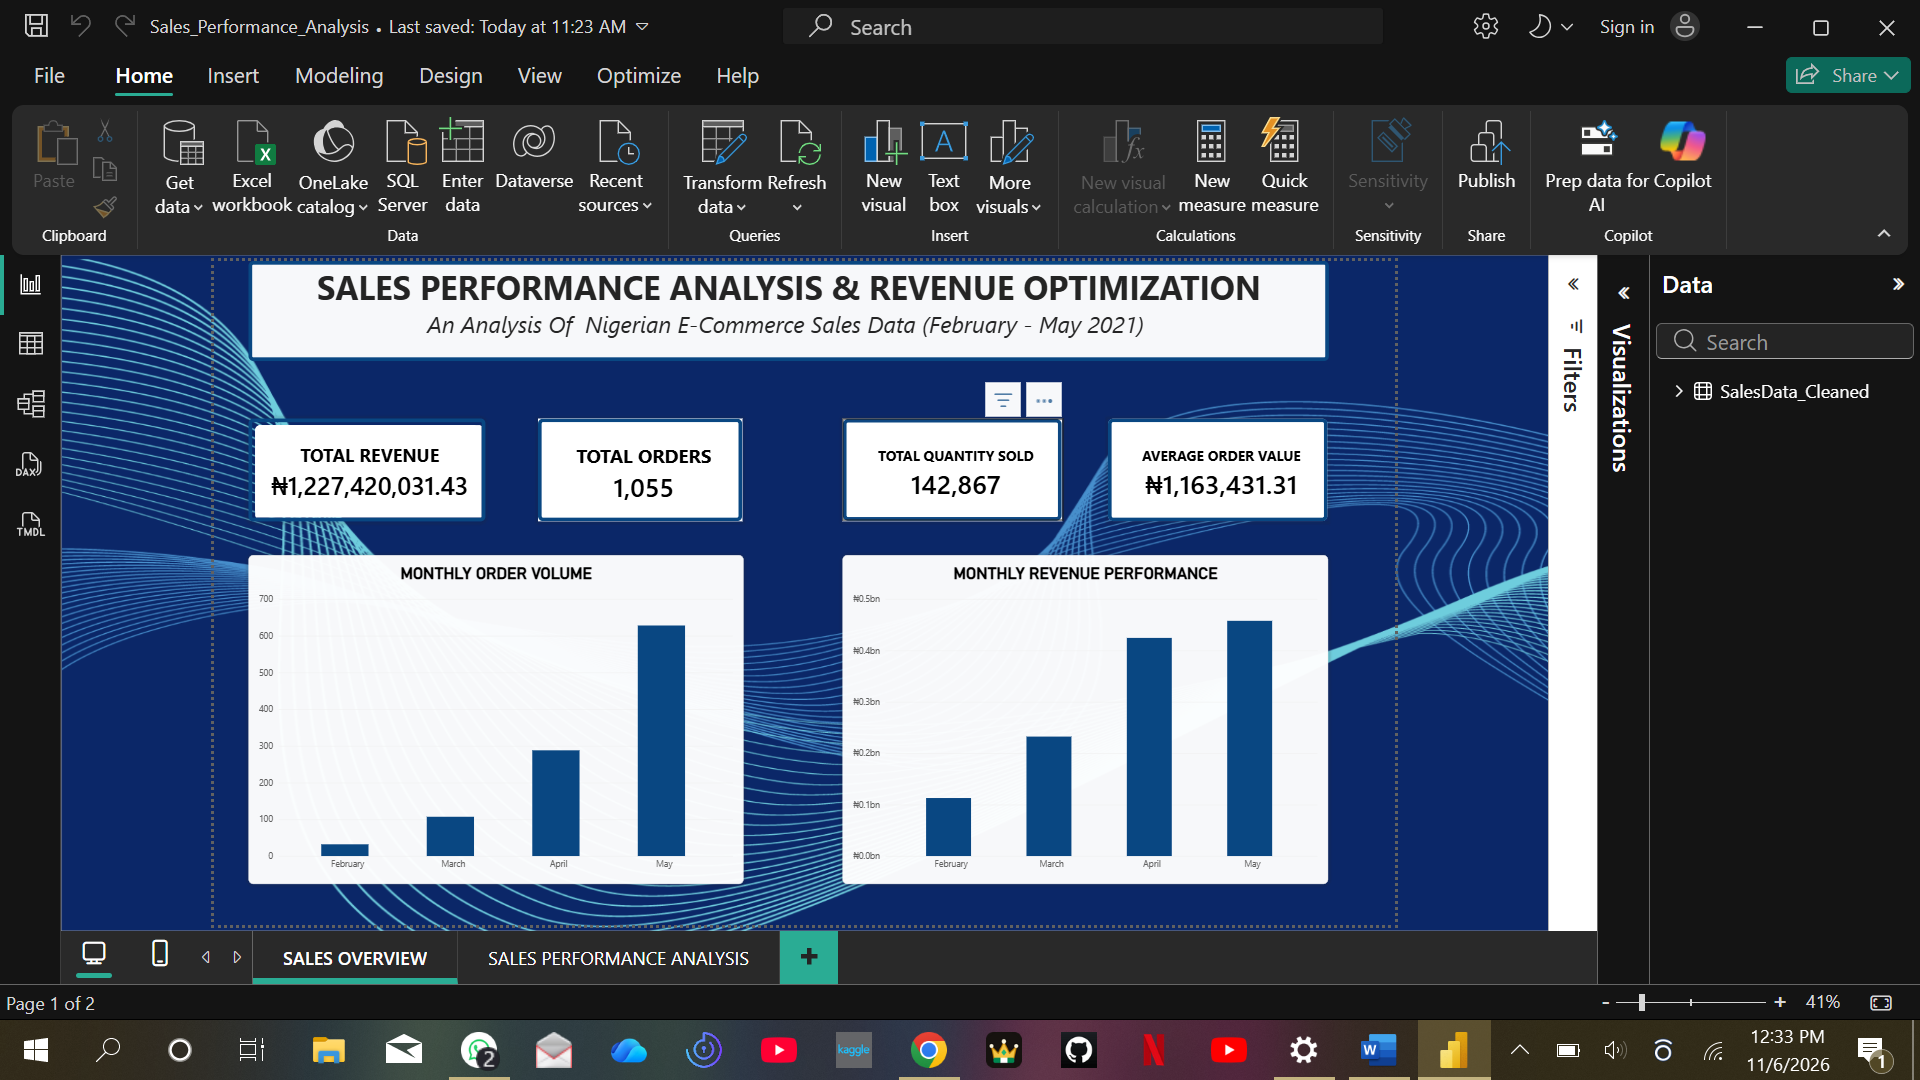

Layout of this report page (visuals, bound fields, positions):
{"tool":"powerbi","page":{"name":"SALES OVERVIEW","canvas":[1920,1080],"ordinal":0},"visuals":[{"type":"cardVisual","fields":{"Data":["SalesData_Cleaned.Total Revenue"]},"box":[55,255,385,167.5],"z":0},{"type":"cardVisual","fields":{"Data":["SalesData_Cleaned.Total Quantity Sold"]},"box":[1022.5,255,357.5,167.5],"z":1000},{"type":"cardVisual","fields":{"Data":["SalesData_Cleaned.Total Orders"]},"box":[527.5,255,332.5,167.5],"z":2000},{"type":"cardVisual","fields":{"Data":["SalesData_Cleaned.Average Order Value"]},"box":[1455,255,357.5,167.5],"z":3000},{"type":"clusteredColumnChart","title":"MONTHLY REVENUE PERFORMANCE","fields":{"Category":["SalesData_Cleaned.Order_Date.Variation.Date Hierarchy.Month"],"Y":["SalesData_Cleaned.Total Revenue"]},"box":[1022.5,477.5,790,535],"z":4000},{"type":"textbox","box":[55,0,1757.5,162.5],"z":8000},{"type":"clusteredColumnChart","title":"MONTHLY ORDER VOLUME","fields":{"Category":["SalesData_Cleaned.Order_Date.Variation.Date Hierarchy.Month"],"Y":["SalesData_Cleaned.Monthly Orders"]},"box":[55,477.5,805,535],"z":8001}]}

Visuals, with their boxes on the page's 1920x1080 design canvas (x1, y1, x2, y2). These are canvas units, not pixel positions in the 1920x1080 screenshot, which may show the page scaled, cropped or inside an application window:
cardVisual - SalesData_Cleaned.Total Revenue: (x1=55, y1=255, x2=440, y2=422)
cardVisual - SalesData_Cleaned.Total Quantity Sold: (x1=1022, y1=255, x2=1380, y2=422)
cardVisual - SalesData_Cleaned.Total Orders: (x1=528, y1=255, x2=860, y2=422)
cardVisual - SalesData_Cleaned.Average Order Value: (x1=1455, y1=255, x2=1812, y2=422)
"MONTHLY REVENUE PERFORMANCE" clusteredColumnChart: (x1=1022, y1=478, x2=1812, y2=1012)
textbox: (x1=55, y1=0, x2=1812, y2=162)
"MONTHLY ORDER VOLUME" clusteredColumnChart: (x1=55, y1=478, x2=860, y2=1012)
